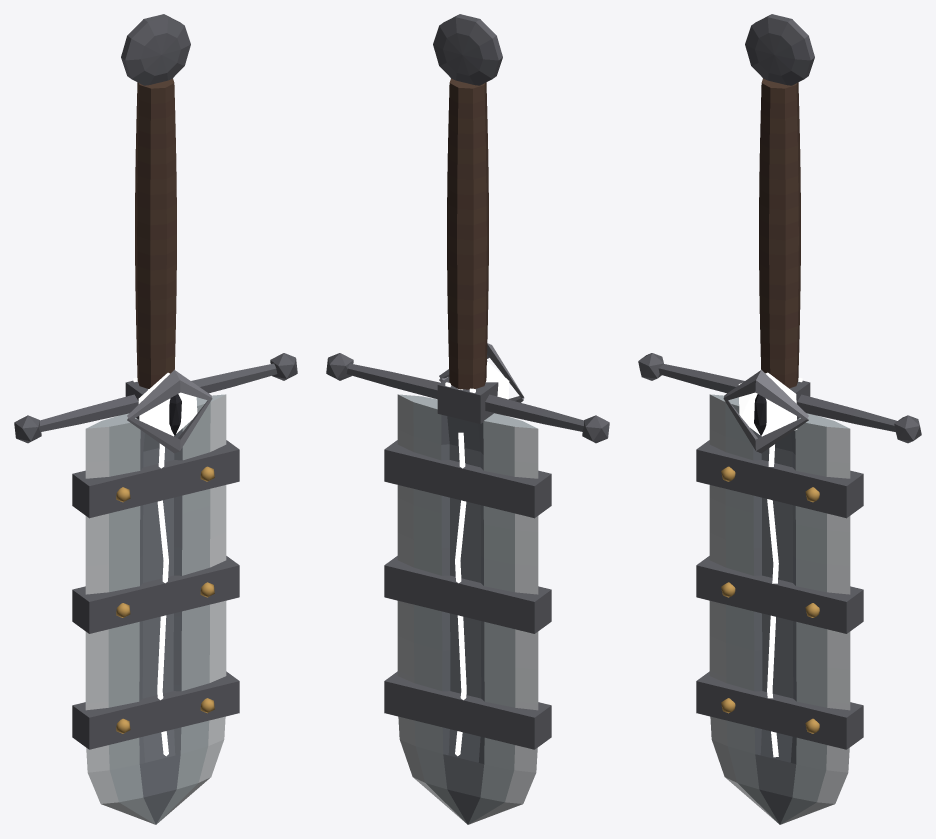
File: blade-wall-of-one.glb
The picture shows the model from 3 angles, left to right: view 1: azimuth 30°, elevation 25°; view 2: azimuth 150°, elevation 25°; view 3: azimuth 330°, elevation 25°; orthographic projection.
Visible parts, largest first — view 1: blade-wall-of-one, blink_eye, pulse_vein; view 2: blade-wall-of-one, pulse_vein, blink_eye; view 3: blade-wall-of-one, blink_eye, pulse_vein.
Boxes of the visible parts, x1,y1,x2,y2 form: blade-wall-of-one: [14, 14, 297, 824]; blink_eye: [127, 370, 212, 453]; pulse_vein: [157, 443, 168, 756]; blade-wall-of-one: [326, 14, 609, 824]; pulse_vein: [455, 432, 466, 756]; blink_eye: [439, 343, 524, 402]; blade-wall-of-one: [638, 14, 921, 824]; blink_eye: [723, 370, 808, 453]; pulse_vein: [767, 444, 778, 757].
Bounding box in the file's own units: 0.4574 × 1.26 × 0.1002.
